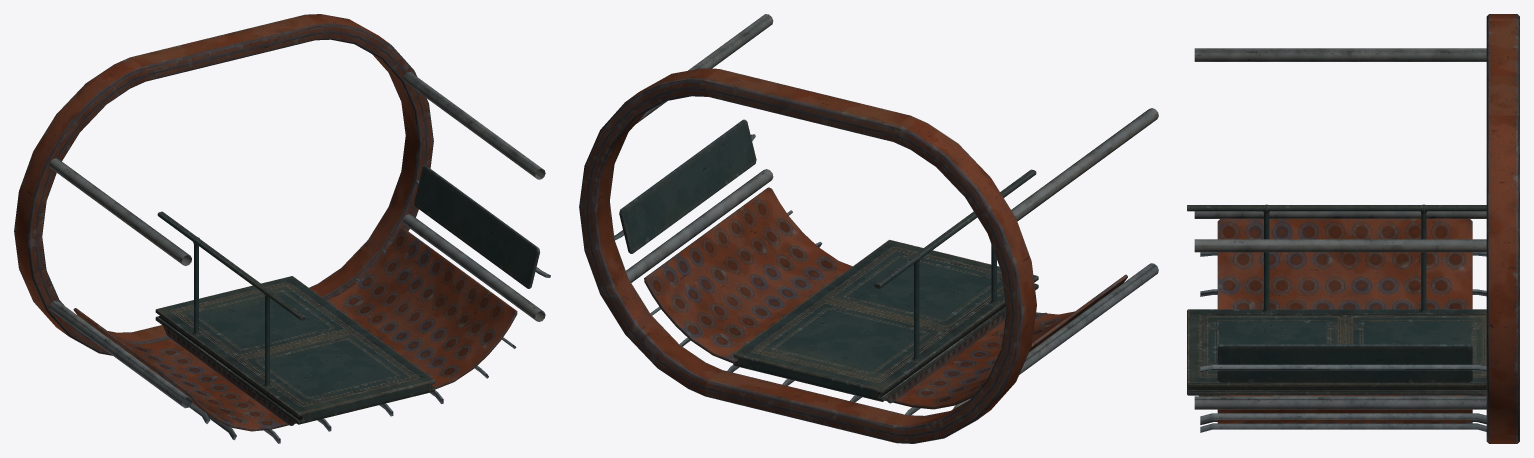
Rendered from tunnel_observation_start_noglass.dae.
3 views of the same model, side by side, from view 1: azimuth 30°, elevation 25°; view 2: azimuth 150°, elevation 25°; view 3: azimuth 270°, elevation 25° (orthographic). The views are drawn at different scales.
Parts seen in each view (by area): view 1: polySurface1087; view 2: polySurface1087; view 3: polySurface1087.
Part boxes in pixels (bbox=[...]): polySurface1087: bbox=[14, 14, 550, 443]; polySurface1087: bbox=[579, 14, 1158, 443]; polySurface1087: bbox=[1187, 14, 1519, 443].
Size of the model in its own units: 6.57 by 4.49 by 4.21.
